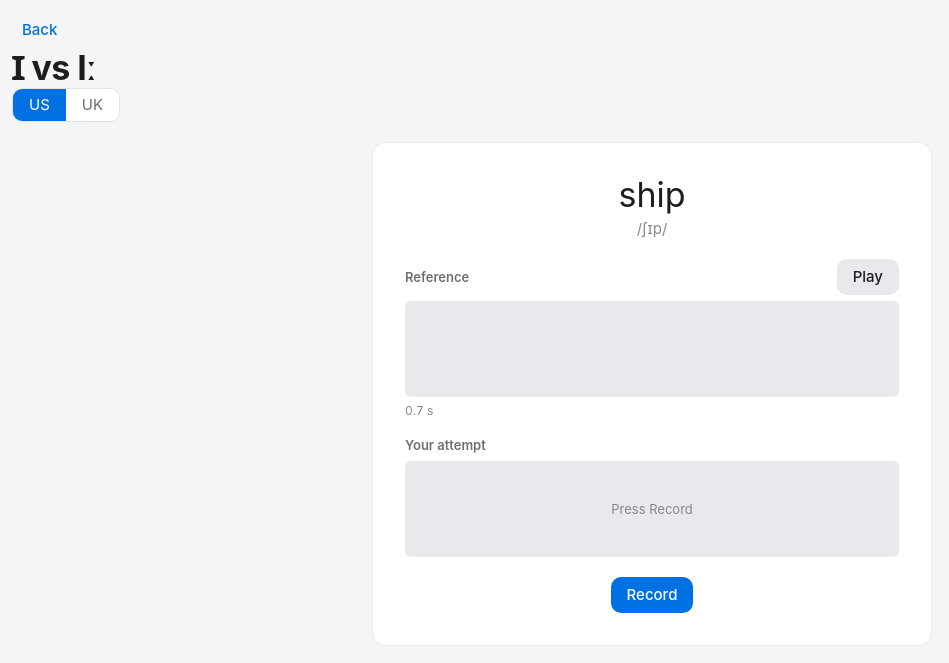
Scenario: reference strip › disables Play while listening, so the reference clip cannot leak into the microphone
Click the button "Record" at (652, 595), box [611,577,693,613]
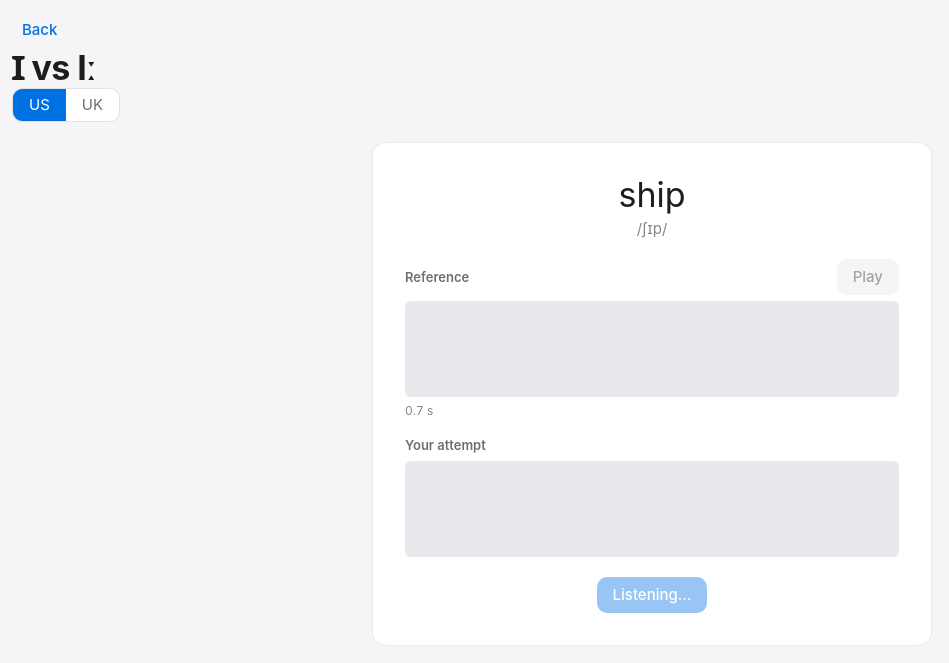
Expected: the button "Play" is disabled, [837,259,899,295]
